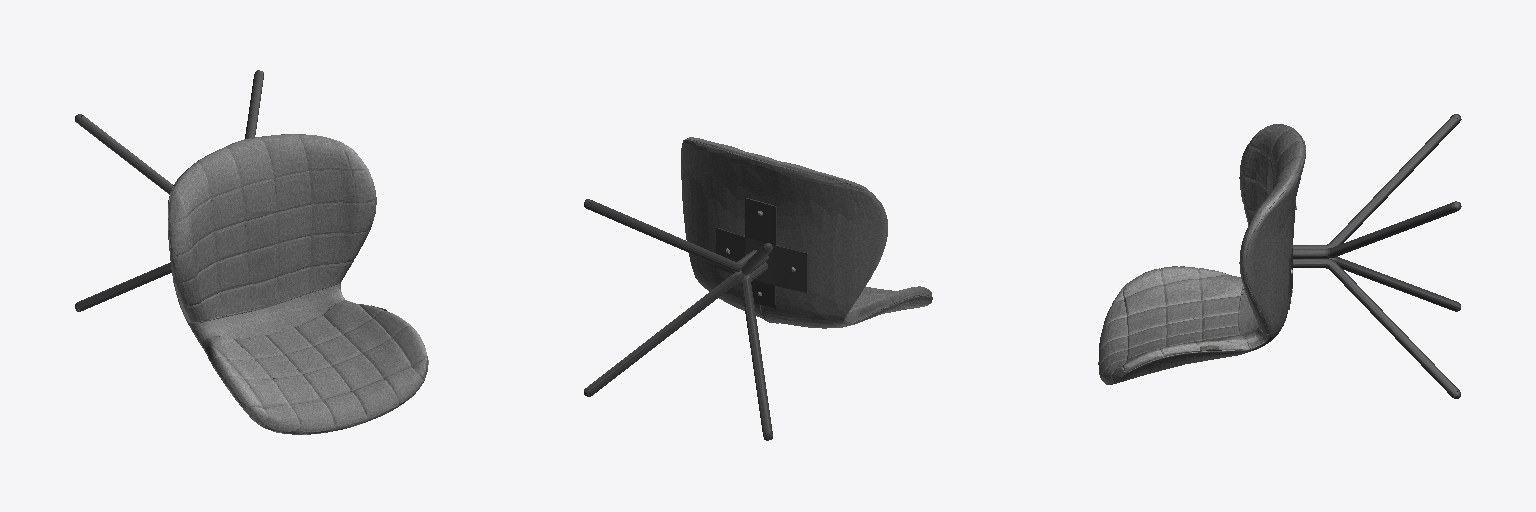
3 views of the same model, side by side, from view 1: azimuth 30°, elevation 25°; view 2: azimuth 150°, elevation 25°; view 3: azimuth 270°, elevation 25° (orthographic).
Size of the model in its own units: 0.5264 by 0.5293 by 0.8057.
Materials: 1 (1 with a texture image).